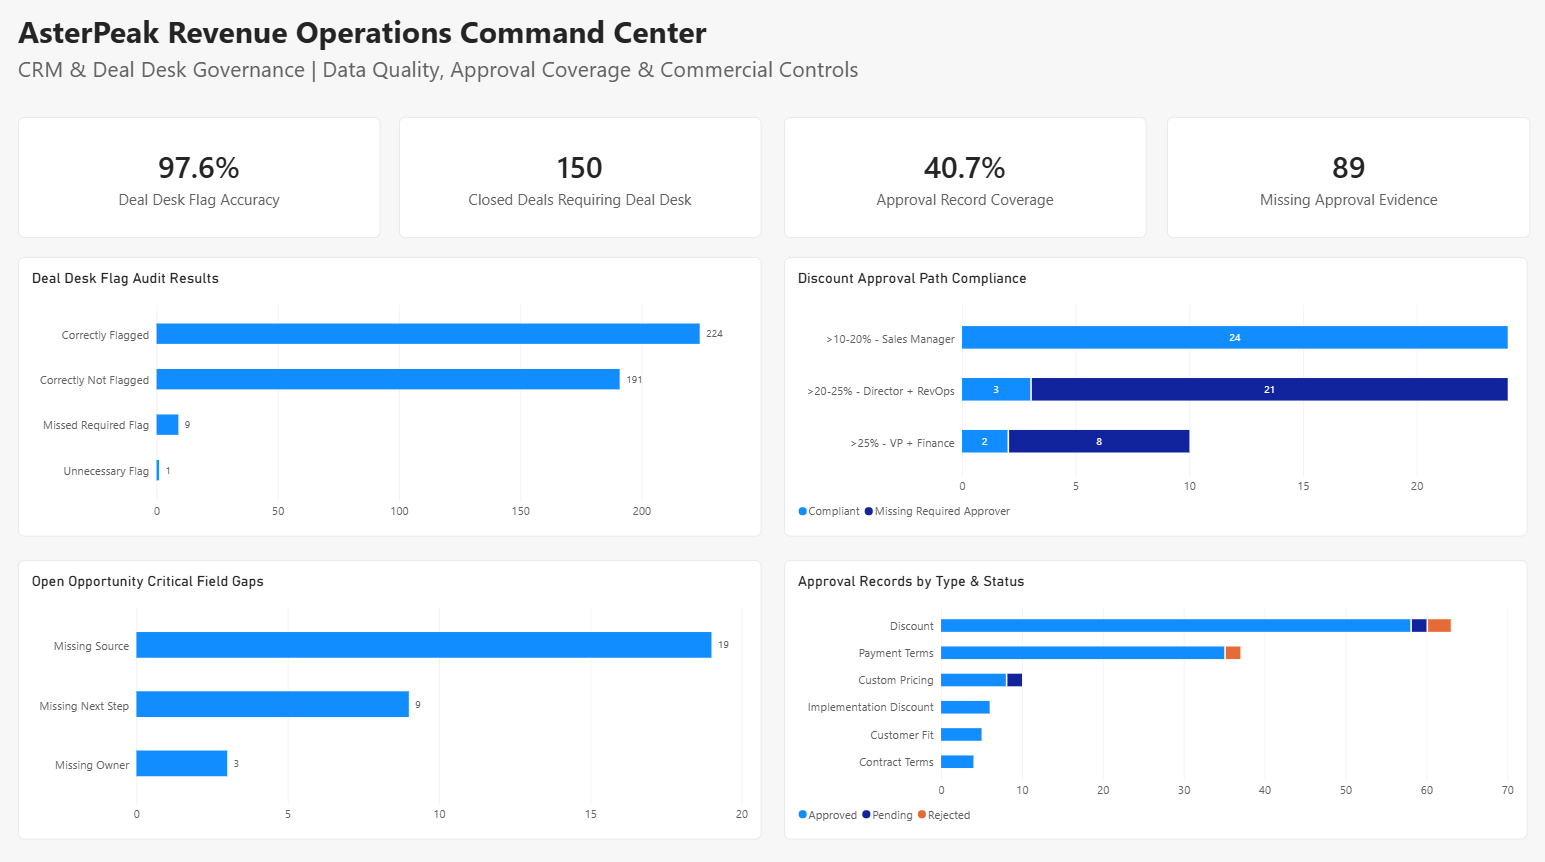

This screenshot's page, from the dashboard's own definition file:
{"tool":"powerbi","page":{"name":"CRM & Deal Desk Governance","canvas":[1920,1080],"ordinal":5},"visuals":[{"type":"textbox","title":"AsterPeak Revenue Operations Command Center","box":[24.4,19.2,1156.9,130.7],"z":0},{"type":"card","fields":{"Values":["_Measures.Deal Desk Flag Accuracy"]},"box":[24.4,149.8,449.5,149.8],"z":1},{"type":"card","fields":{"Values":["_Measures.Closed Deals Requiring Deal Desk"]},"box":[498.3,149.8,449.5,149.8],"z":2},{"type":"card","fields":{"Values":["_Measures.Approval Record Coverage"]},"box":[975.7,149.8,449.5,149.8],"z":3},{"type":"card","fields":{"Values":["_Measures.Closed Required Deals Missing Approval"]},"box":[1451.3,149.8,451.3,149.8],"z":4},{"type":"clusteredBarChart","title":"Deal Desk Flag Audit Results","fields":{"Category":["Opportunities.Deal Desk Flag Audit Status"],"Y":["_Measures.Total Opportunities"]},"box":[24.4,324.1,923.4,346.7],"z":5},{"type":"barChart","title":"Discount Approval Path Compliance","fields":{"Category":["Discount Approval Audit.Discount Band"],"Series":["Discount Approval Audit.Approval Path Status"],"Y":["_Measures.Discount Approval Opportunities"]},"box":[975.7,324.1,923.4,346.7],"z":6},{"type":"clusteredBarChart","title":"Open Opportunity Critical Field Gaps","fields":{"Category":["Open Opp Data Quality Issues.Data Quality Issue"],"Y":["_Measures.Open Opp Data Quality Issue Count"]},"box":[24.4,700.4,923.4,346.7],"z":7},{"type":"barChart","title":"Approval Records by Type & Status","fields":{"Category":["Deal_Approvals.approval_type"],"Series":["Deal_Approvals.approval_status"],"Y":["CountNonNull(Deal_Approvals.approval_id)"]},"box":[975.7,700.4,923,347],"z":8}]}

Visuals, with their boxes in screenshot pixels (x1, y1, x2, y2), scaled from the page's 1920x1080 canvas onto the 1545x862 screenshot:
"AsterPeak Revenue Operations Command Center" textbox: 20 15 951 120
card - _Measures.Deal Desk Flag Accuracy: 20 120 381 239
card - _Measures.Closed Deals Requiring Deal Desk: 401 120 763 239
card - _Measures.Approval Record Coverage: 785 120 1147 239
card - _Measures.Closed Required Deals Missing Approval: 1168 120 1531 239
"Deal Desk Flag Audit Results" clusteredBarChart: 20 259 763 535
"Discount Approval Path Compliance" barChart: 785 259 1528 535
"Open Opportunity Critical Field Gaps" clusteredBarChart: 20 559 763 836
"Approval Records by Type & Status" barChart: 785 559 1528 836
